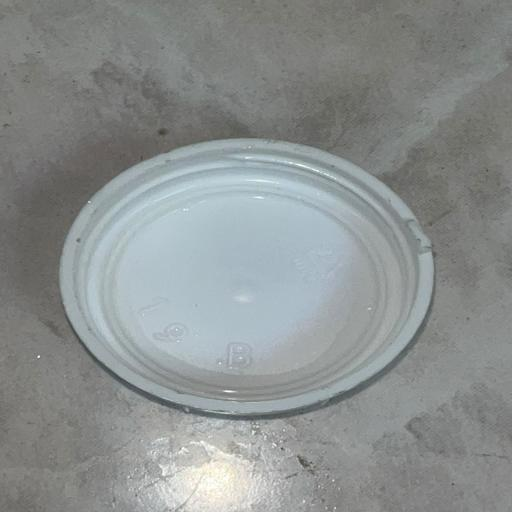HDPE: (43, 93, 492, 512)
